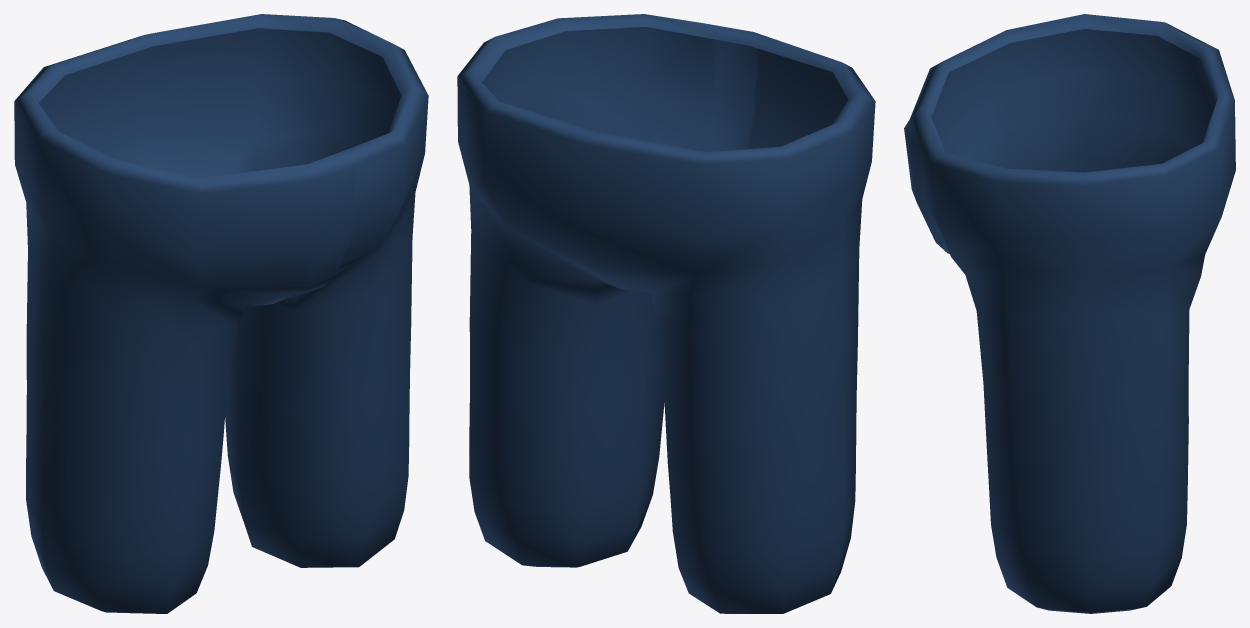
Rendered from Bottom_37.fbx.
The picture shows the model from 3 angles, left to right: view 1: azimuth 30°, elevation 25°; view 2: azimuth 150°, elevation 25°; view 3: azimuth 270°, elevation 25°; orthographic projection. The views are drawn at different scales.
Visible parts, largest first — view 1: Bottom_37; view 2: Bottom_37; view 3: Bottom_37.
Boxes of the visible parts, x1,y1,x2,y2 form: Bottom_37: (14,14,428,613); Bottom_37: (457,14,875,613); Bottom_37: (904,14,1235,613).
Size of the model in its own units: 38.42 by 48.68 by 31.97.
